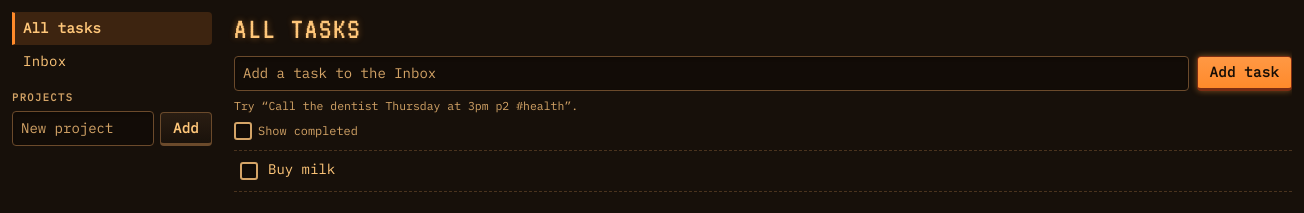
Test: TasksView › completes a task with its checkbox, and can show it again as completed
The image size is (1304, 213).
Step 1. Click the checkbox named "Complete \"Buy milk\"" → click(249, 171), box [240,162,258,180]
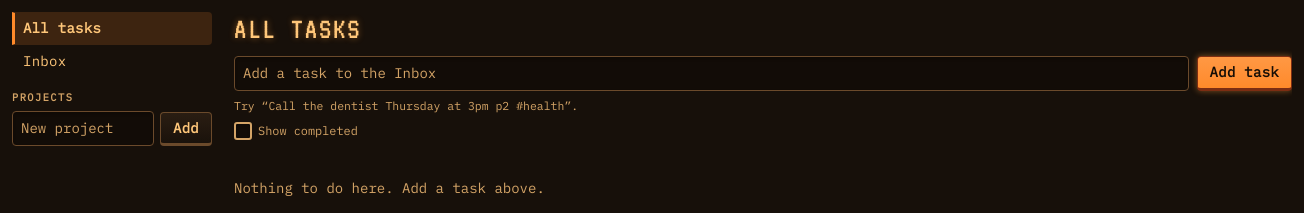
Check: the button "Buy milk" is gone
Step 2. Click the checkbox labelled "Show completed" → click(243, 131), box [234,122,252,140]
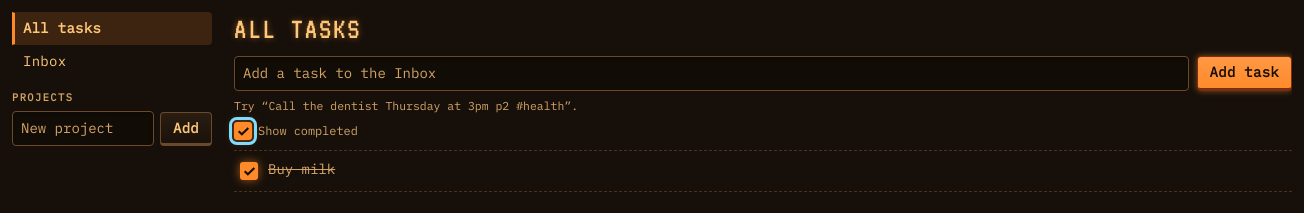
Check: the checkbox named "Mark \"Buy milk\" as not done" is checked, box [240,162,258,180]
